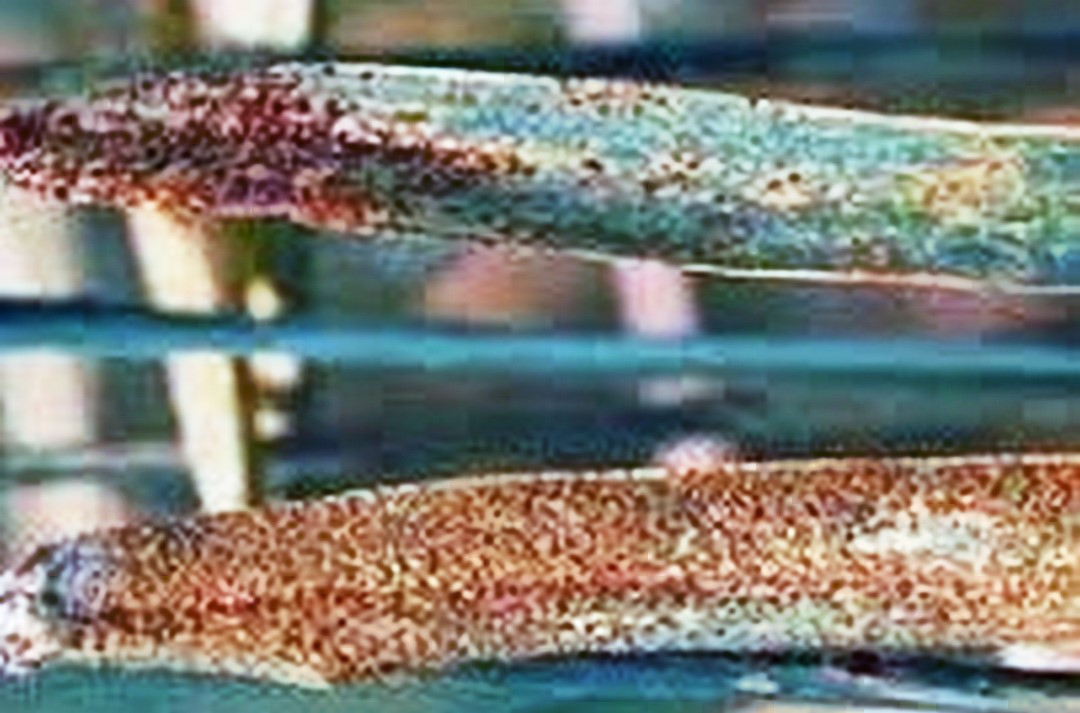Leaf Rust: (133, 432, 997, 677)
